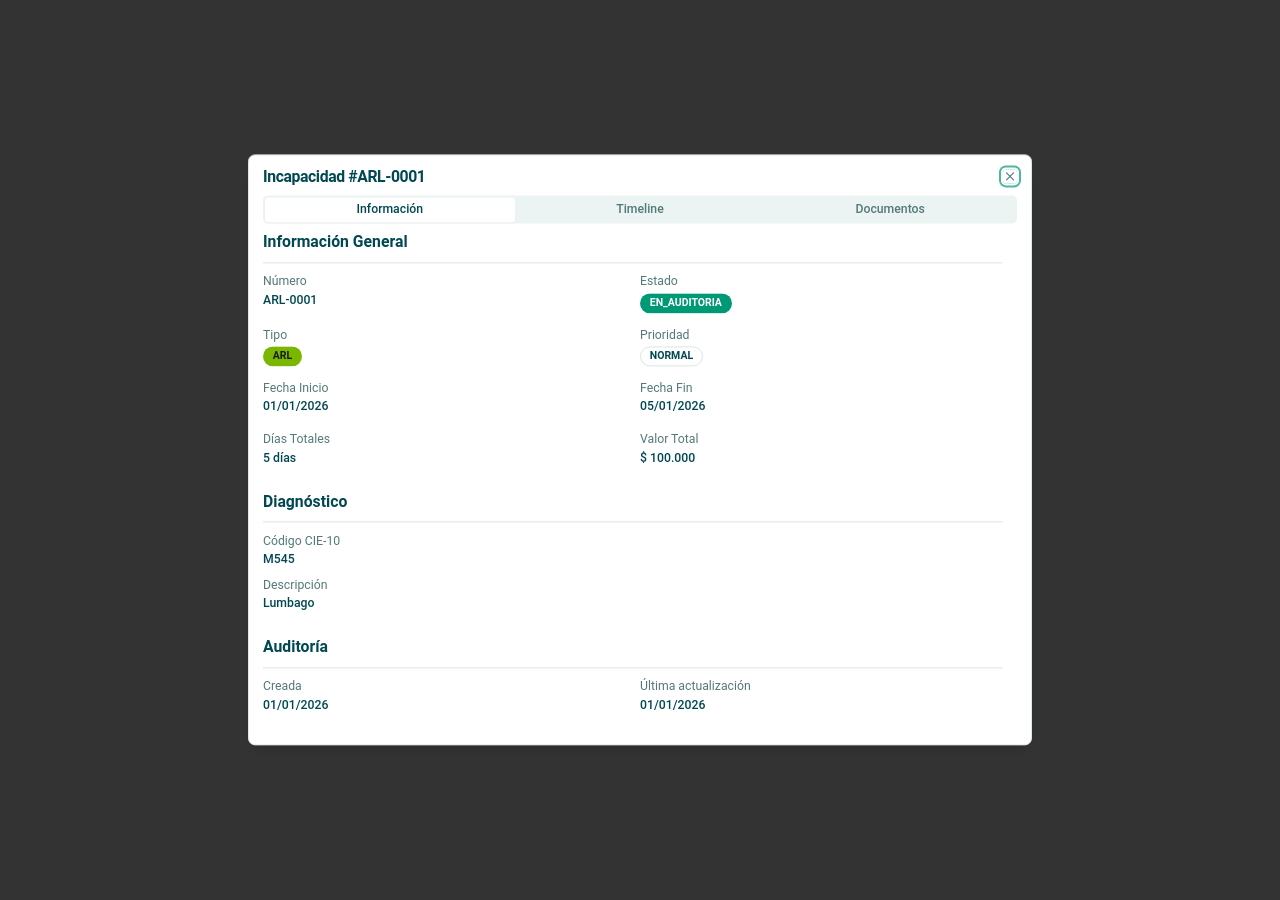
Test: DetalleModal — tab Timeline › no debe romper ni mostrar la sección de responsable cuando el cambio fue automático (sin usuario)
The width and height of the screenshot is (1280, 900).
Click the tab "Timeline" at {"x": 640, "y": 210}, box [515,197,765,222]
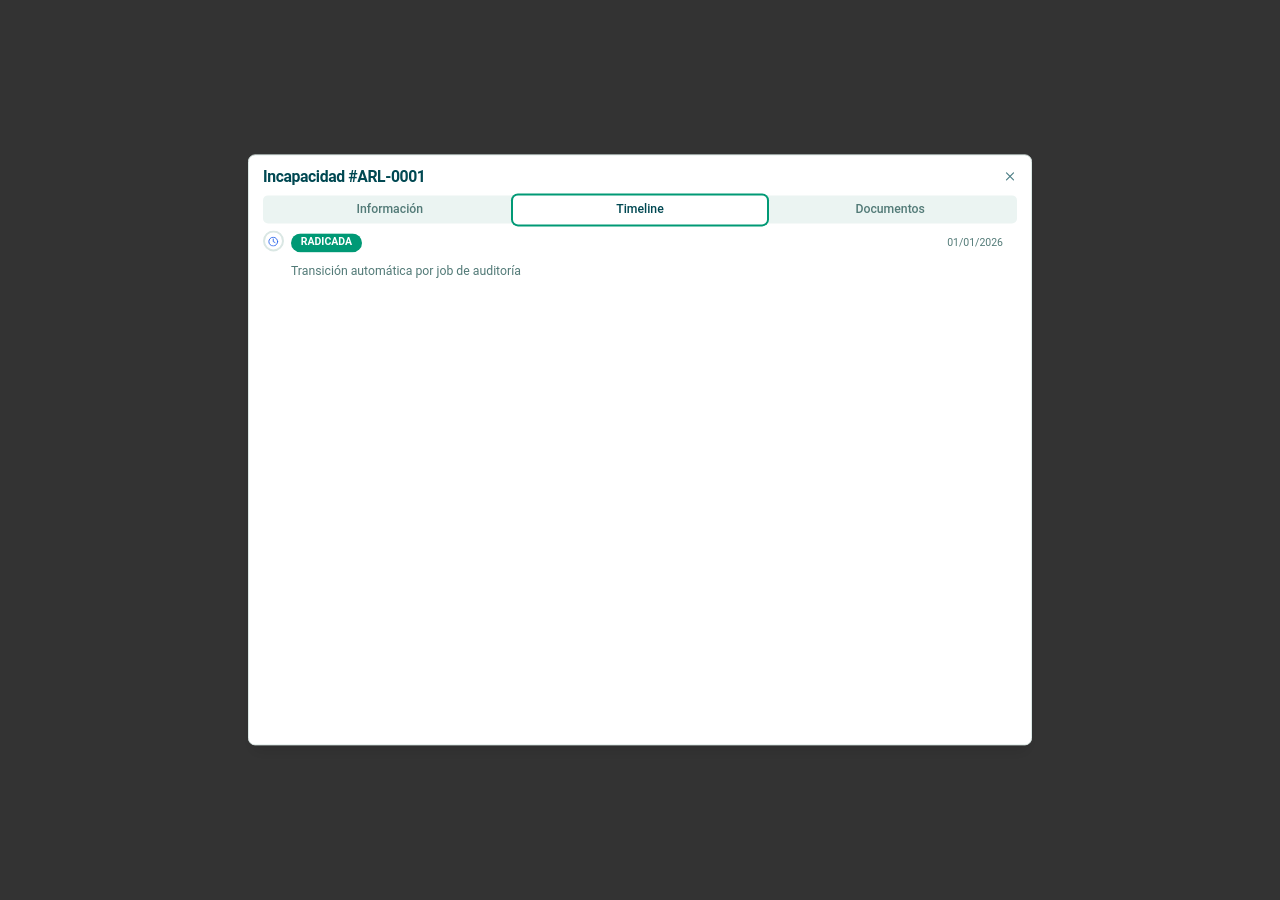
Expected: the text "Transición automática por job de auditoría" is shown, [291,264,521,278]
